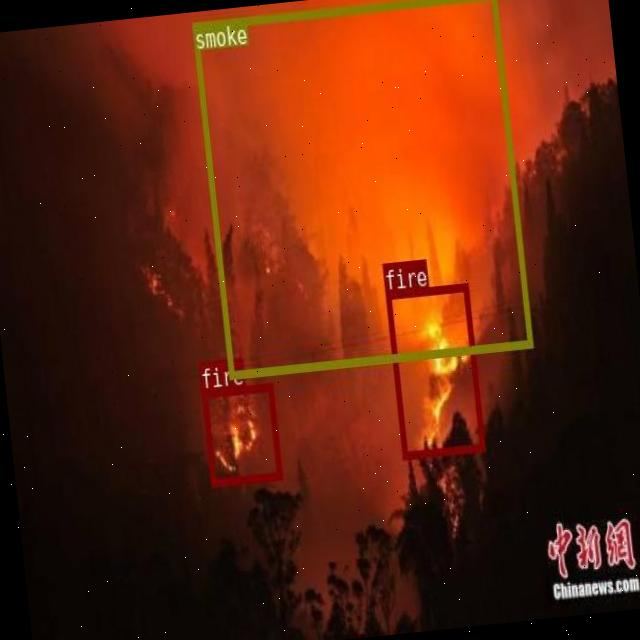fire: (384, 282, 484, 458), (200, 382, 282, 484)
smoke: (191, 0, 532, 378)
